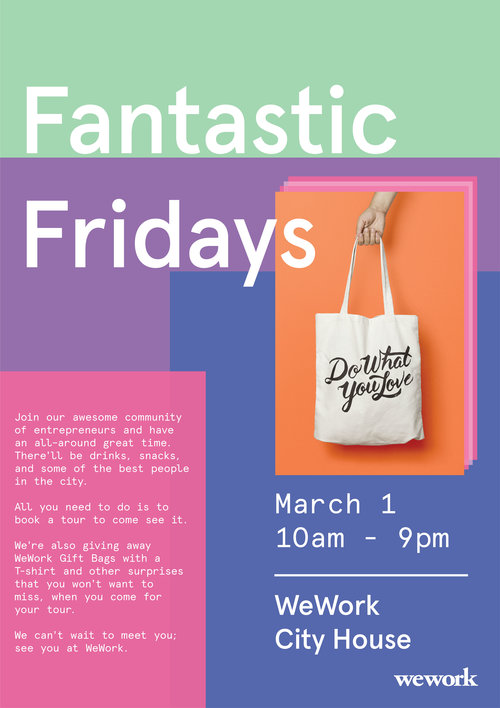wework: (390, 664, 481, 689)
